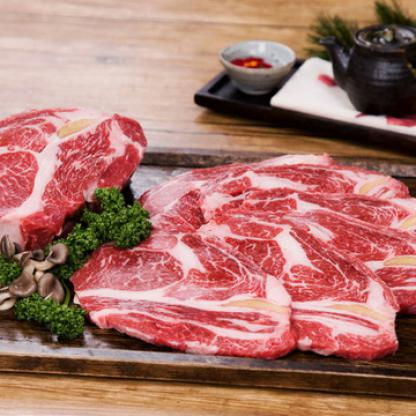beef: (134, 146, 415, 356), (0, 99, 135, 222)
